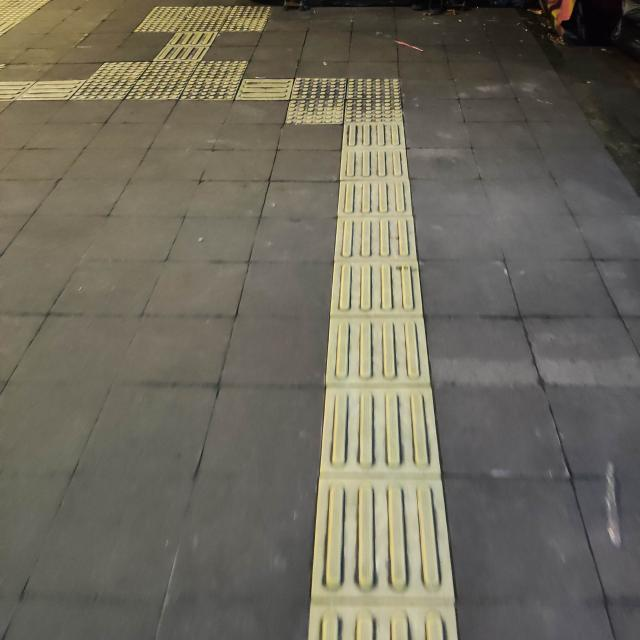kiri: (256, 65, 425, 158)
